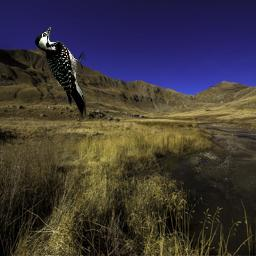Woodpecker: (34, 25, 86, 120)
